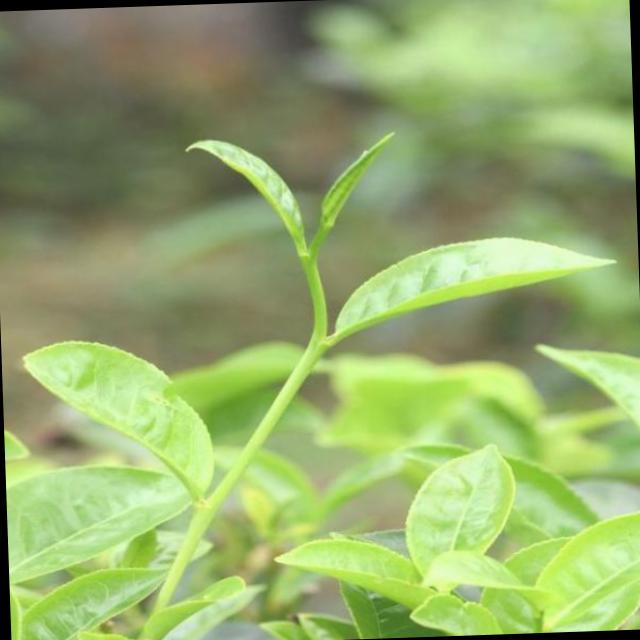Stem: (302, 257, 317, 275)
